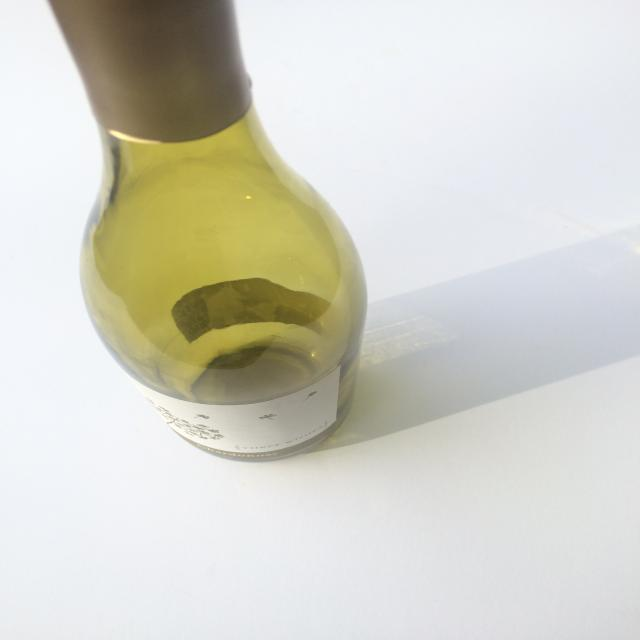glass: (42, 1, 369, 462)
